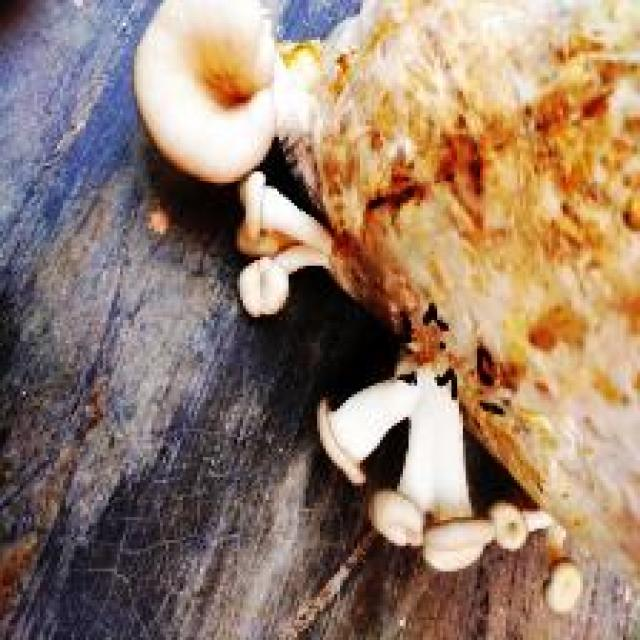field-mushroom: (134, 0, 286, 183)
